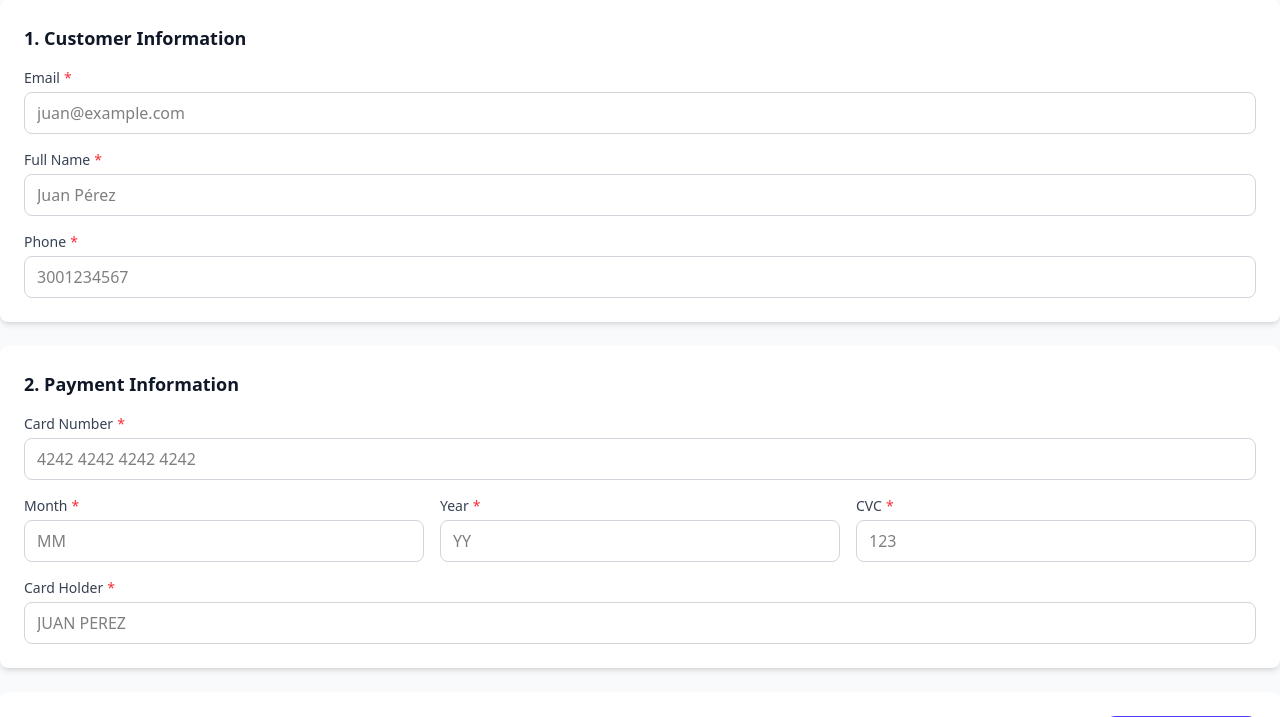
it: CheckoutForm › formats card number with spaces every 4 digits
Type "4242424242424242" into the field with placeholder "4242 4242 4242 4242" at point(640, 459), box [24,438,1256,480]
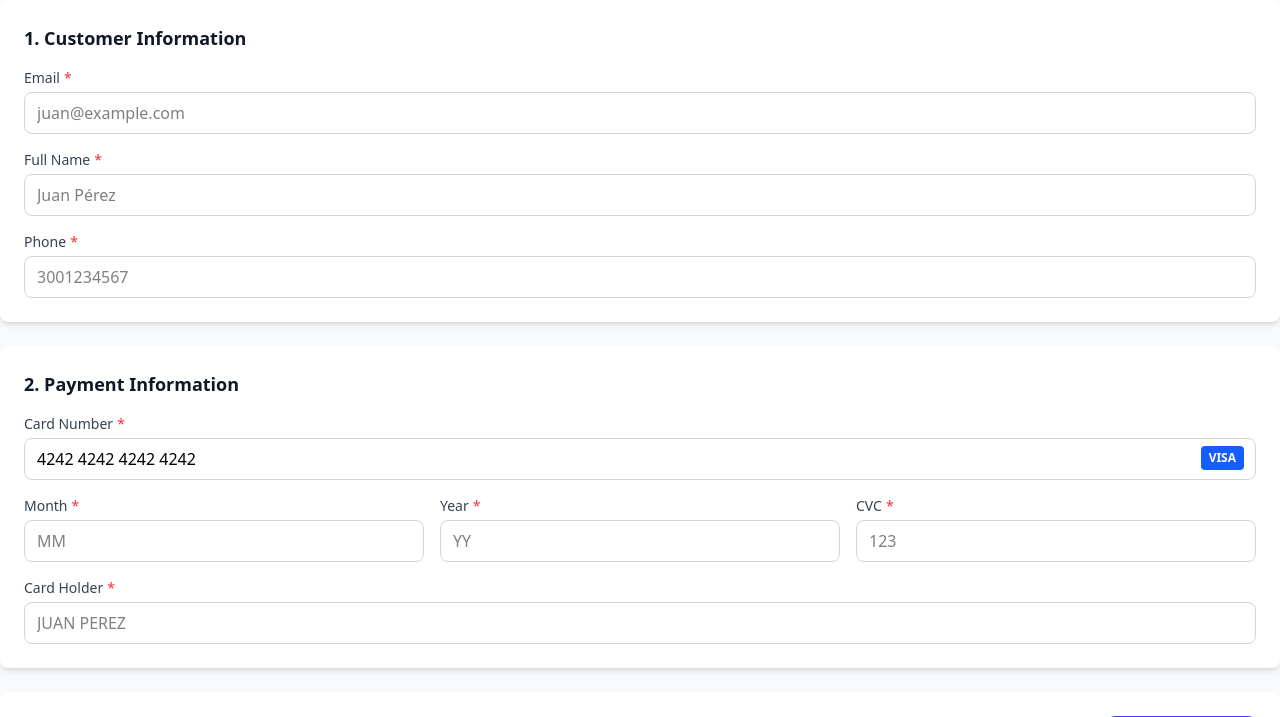
Check: the field with placeholder "4242 4242 4242 4242" holds "4242 4242 4242 4242", box [24,438,1256,480]
